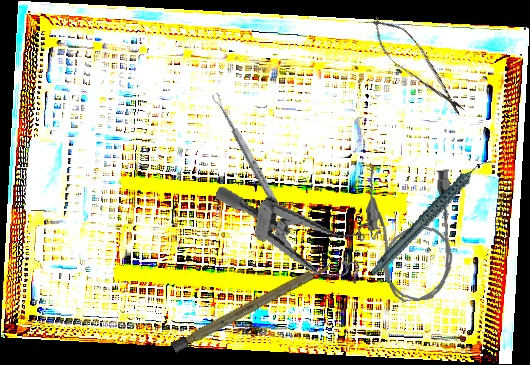Cannula: (363, 161, 458, 304)
Handpiece: (351, 155, 511, 278)
Micro Scissor: (360, 6, 476, 125)
Scalpel Handle: (170, 260, 333, 353)
Speculum: (204, 184, 385, 289)
Surgical Spoon: (210, 91, 287, 219)
